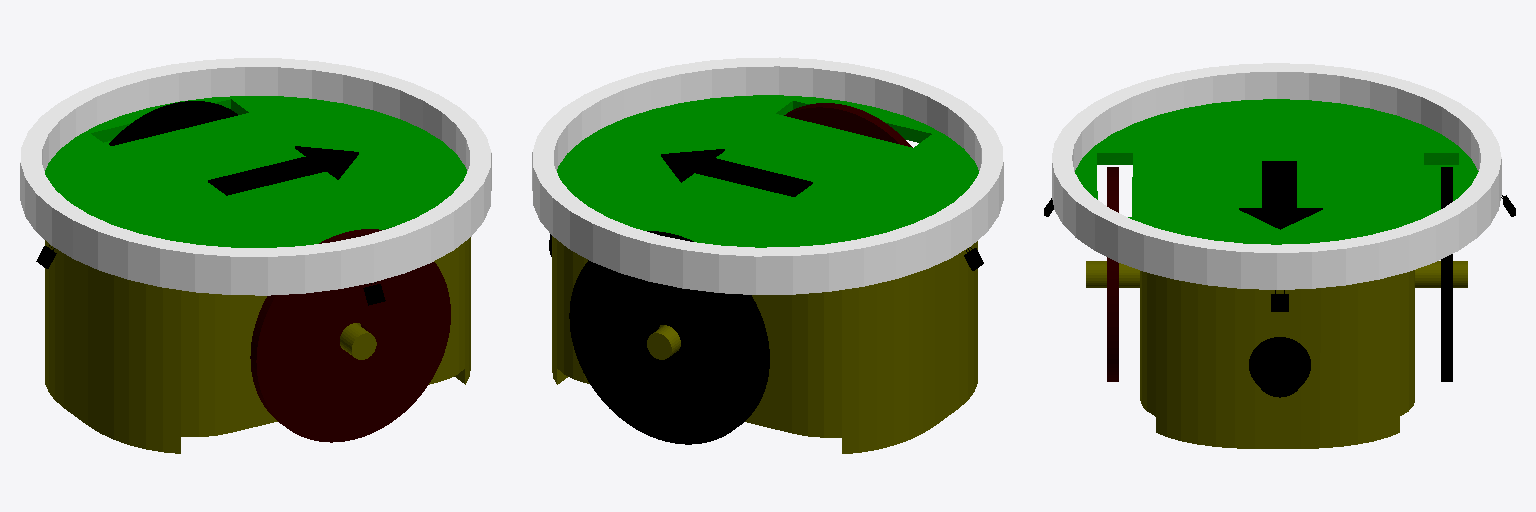
robot.urdf — epuck:
<robot name="epuck">
    <link name="base_link">
        <visual>
            <geometry>
                <mesh filename="epuck_body.obj" scale="0.5 0.5 0.5" />
            </geometry>
            <origin rpy="1.57075 0 0" xyz="0.0 -0.098 0.125" />
            <material name="light_grey">
                <color rgba="0.4 0.4 0 1" />
            </material>
        </visual>
        <collision>
            <geometry>
                <mesh filename="epuck_body.obj" scale="0.5 0.5 0.5" />
            </geometry>
             <origin rpy="1.57075 0 0" xyz="0.0 0.0 0.125" />
        </collision>
        <inertial>
            <mass value="1.5" />
            <inertia ixx="1.0" ixy="0.0" ixz="0.0" iyy="1.0" iyz="0.0" izz="1.0" />
        </inertial>
    </link>

     <link name="right_wheel">
        <visual>
            <geometry>
                <mesh filename="wheel.obj" scale="0.5 0.25 0.5" />
            </geometry>
            <origin xyz="0 0 0" />
            <material name="black">
                <color rgba="0.2 0.0 0.0 1" />
            </material>
        </visual>
        <collision>
            <geometry>
                <mesh filename="wheel.obj" scale="0.5 0.25 0.5" />
            </geometry>
            <origin xyz="0 0 0" />
        </collision>
        <inertial>
            <mass value="0.1" />
            <inertia ixx="1.0" ixy="0.0" ixz="0.0" iyy="1.0" iyz="0.0" izz="1.0" />
        </inertial>
    </link>

    <link name="left_wheel">
        <visual>
            <geometry>
                <mesh filename="wheel.obj" scale="0.5 0.25 0.5" />
            </geometry>
            <origin xyz="0 0 0" />
            <material name="black">
                <color rgba="0.0 0.0 0.0 1" />
            </material>
        </visual>
        <collision>
            <geometry>
               <mesh filename="wheel.obj" scale="0.5 0.25 0.5" />
            </geometry>
            <origin xyz="0 0 0" />
        </collision>
        <inertial>
            <mass value="0.1" />
            <inertia ixx="1.0" ixy="0.0" ixz="0.0" iyy="1.0" iyz="0.0" izz="1.0" />
        </inertial>
    </link>

    <joint name="base_to_right_wheel" type="continuous">
        <parent link="base_link" />
        <child link="right_wheel" />
      	<axis xyz="0 1 0" />
        <origin rpy="0 0 0" xyz="0.007 -0.12 0.078" />
    </joint>

    <joint name="base_to_left_wheel" type="continuous">
        <parent link="base_link" />
        <child link="left_wheel" />
       	<axis xyz="0 1 0" />
        <origin rpy="0 0 0" xyz="0.007 0.12 0.078" />
    </joint>
    <link name="top">
        <visual>
            <geometry>
                <mesh filename="epuck_top.obj" scale="0.5 0.5 0.5" />
            </geometry>
            <origin xyz="0 0 0" />
            <material name="green">
                <color rgba="0 0.6 0 1" />
            </material>
        </visual>
        <collision>
            <geometry>
               <mesh filename="epuck_top.obj" scale="0.5 0.5 0.5" />
            </geometry>
            <origin xyz="0 0 0" />
        </collision>
        <inertial>
            <mass value="0.5" />
            <inertia ixx="1.0" ixy="0.0" ixz="0.0" iyy="1.0" iyz="0.0" izz="1.0" />
        </inertial>
    </link>

    <joint name="base_to_top" type="fixed">
        <parent link="base_link" />
        <child link="top" />
        <origin rpy="1.57075 0 0" xyz="0 -0.098 0.12" />
    </joint>
    <link name="leds">
        <visual>
            <geometry>
                <mesh filename="led_base.obj" scale="0.5 0.5 0.5" />
            </geometry>
            <origin xyz="0 0 0" />
            <material name="white">
                <color rgba="1 1 1 0.7" />
            </material>
        </visual>
        <collision>
            <geometry>
               <mesh filename="led_base.obj" scale="0.5 0.5 0.5" />
            </geometry>
            <origin xyz="0 0 0" />
        </collision>
        <inertial>
            <mass value="0.01" />
            <inertia ixx="1.0" ixy="0.0" ixz="0.0" iyy="1.0" iyz="0.0" izz="1.0" />
        </inertial>
    </link>

    <joint name="base_to_leds" type="fixed">
        <parent link="base_link" />
        <child link="leds" />
        <origin rpy="1.57075 0 0" xyz="0 -0.098 0.12" />
    </joint>

    <link name="cam">
        <visual>
            <geometry>
                <mesh filename="cam.obj" scale="0.5 0.5 0.5" />
            </geometry>
            <origin xyz="0 0 0" />
            <material name="black">
                <color rgba="0 0 0 1" />
            </material>
        </visual>
        <collision>
            <geometry>
               <mesh filename="cam.obj" scale="0.5 0.5 0.5" />
            </geometry>
            <origin xyz="0 0 0" />
        </collision>
        <inertial>
            <mass value="0.005" />
            <inertia ixx="1.0" ixy="0.0" ixz="0.0" iyy="1.0" iyz="0.0" izz="1.0" />
        </inertial>
    </link>

    <joint name="base_to_cam" type="fixed">
        <parent link="base_link" />
        <child link="cam" />
        <origin rpy="3.1415 1.57075 0" xyz="0.268 0.0 0.07" />
    </joint>
    
<link name="IR0">
                <visual>
                    <geometry>
                        <mesh filename="ir.obj" scale="1 1 1" />
                    </geometry>
                    <origin xyz="0 0 0" />
                    <material name="black">
                        <color rgba="0 0 0 1" />
                    </material>
                </visual>
                <collision>
                    <geometry>
                    <mesh filename="ir.obj" scale="1 1 1" />
                    </geometry>
                    <origin xyz="0 0 0" />
                </collision>
                <inertial>
                    <mass value="0.0" />
                    <inertia ixx="1.0" ixy="0.0" ixz="0.0" iyy="1.0" iyz="0.0" izz="1.0" />
                </inertial>
            </link><joint name="base_to_IR0" type="fixed">
                <parent link="base_link" />
                <child link="IR0" />
                <origin rpy="1.2 0 1.5707963267948966" xyz="0.16 0.0 0.127" />
            </joint><link name="IR1">
                <visual>
                    <geometry>
                        <mesh filename="ir.obj" scale="1 1 1" />
                    </geometry>
                    <origin xyz="0 0 0" />
                    <material name="black">
                        <color rgba="0 0 0 1" />
                    </material>
                </visual>
                <collision>
                    <geometry>
                    <mesh filename="ir.obj" scale="1 1 1" />
                    </geometry>
                    <origin xyz="0 0 0" />
                </collision>
                <inertial>
                    <mass value="0.0" />
                    <inertia ixx="1.0" ixy="0.0" ixz="0.0" iyy="1.0" iyz="0.0" izz="1.0" />
                </inertial>
            </link><joint name="base_to_IR1" type="fixed">
                <parent link="base_link" />
                <child link="IR1" />
                <origin rpy="1.2 0 3.141592653589793" xyz="9.797174393178826e-18 0.16 0.127" />
            </joint><link name="IR2">
                <visual>
                    <geometry>
                        <mesh filename="ir.obj" scale="1 1 1" />
                    </geometry>
                    <origin xyz="0 0 0" />
                    <material name="black">
                        <color rgba="0 0 0 1" />
                    </material>
                </visual>
                <collision>
                    <geometry>
                    <mesh filename="ir.obj" scale="1 1 1" />
                    </geometry>
                    <origin xyz="0 0 0" />
                </collision>
                <inertial>
                    <mass value="0.0" />
                    <inertia ixx="1.0" ixy="0.0" ixz="0.0" iyy="1.0" iyz="0.0" izz="1.0" />
                </inertial>
            </link><joint name="base_to_IR2" type="fixed">
                <parent link="base_link" />
                <child link="IR2" />
                <origin rpy="1.2 0 4.71238898038469" xyz="-0.16 1.959434878635765e-17 0.127" />
            </joint><link name="IR3">
                <visual>
                    <geometry>
                        <mesh filename="ir.obj" scale="1 1 1" />
                    </geometry>
                    <origin xyz="0 0 0" />
                    <material name="black">
                        <color rgba="0 0 0 1" />
                    </material>
                </visual>
                <collision>
                    <geometry>
                    <mesh filename="ir.obj" scale="1 1 1" />
                    </geometry>
                    <origin xyz="0 0 0" />
                </collision>
                <inertial>
                    <mass value="0.0" />
                    <inertia ixx="1.0" ixy="0.0" ixz="0.0" iyy="1.0" iyz="0.0" izz="1.0" />
                </inertial>
            </link><joint name="base_to_IR3" type="fixed">
                <parent link="base_link" />
                <child link="IR3" />
                <origin rpy="1.2 0 6.283185307179586" xyz="-2.9391523179536474e-17 -0.16 0.127" />
            </joint>
    <!-- <link name="IR0">
        <visual>
            <geometry>
                <mesh filename="ir.obj" scale="1 1 1" />
            </geometry>
            <origin xyz="0 0 0" />
            <material name="black">
                <color rgba="0 0 0 1" />
            </material>
        </visual>
        <collision>
            <geometry>
            <mesh filename="ir.obj" scale="1 1 1" />
            </geometry>
            <origin xyz="0 0 0" />
        </collision>
        <inertial>
            <mass value="0.0" />
            <inertia ixx="1.0" ixy="0.0" ixz="0.0" iyy="1.0" iyz="0.0" izz="1.0" />
        </inertial>
    </link>
    <joint name="base_to_IR0" type="fixed">
        <parent link="base_link" />
        <child link="IR0" />
        <origin rpy="1.2 0 1.5707963267948966" xyz="0.16 0.0 0.127" />
    </joint>
    <link name="IR1">
        <visual>
            <geometry>
                <mesh filename="ir.obj" scale="1 1 1" />
            </geometry>
            <origin xyz="0 0 0" />
            <material name="black">
                <color rgba="0 0 0 1" />
            </material>
        </visual>
        <collision>
            <geometry>
            <mesh filename="ir.obj" scale="1 1 1" />
            </geometry>
            <origin xyz="0 0 0" />
        </collision>
        <inertial>
            <mass value="0.0" />
            <inertia ixx="1.0" ixy="0.0" ixz="0.0" iyy="1.0" iyz="0.0" izz="1.0" />
        </inertial>
    </link>
    <joint name="base_to_IR1" type="fixed">
        <parent link="base_link" />
        <child link="IR1" />
        <origin rpy="1.2 0 2.617993877991494" xyz="0.08000000000000002 0.13856406460551018 0.127" />
    </joint>
    <link name="IR2">
        <visual>
            <geometry>
                <mesh filename="ir.obj" scale="1 1 1" />
            </geometry>
            <origin xyz="0 0 0" />
            <material name="black">
                <color rgba="0 0 0 1" />
            </material>
        </visual>
        <collision>
            <geometry>
            <mesh filename="ir.obj" scale="1 1 1" />
            </geometry>
            <origin xyz="0 0 0" />
        </collision>
        <inertial>
            <mass value="0.0" />
            <inertia ixx="1.0" ixy="0.0" ixz="0.0" iyy="1.0" iyz="0.0" izz="1.0" />
        </inertial>
    </link>
    <joint name="base_to_IR2" type="fixed">
        <parent link="base_link" />
        <child link="IR2" />
        <origin rpy="1.2 0 3.665191429188092" xyz="-0.07999999999999996 0.13856406460551018 0.127" />
    </joint>
    <link name="IR3">
        <visual>
            <geometry>
                <mesh filename="ir.obj" scale="1 1 1" />
            </geometry>
            <origin xyz="0 0 0" />
            <material name="black">
                <color rgba="0 0 0 1" />
            </material>
        </visual>
        <collision>
            <geometry>
            <mesh filename="ir.obj" scale="1 1 1" />
            </geometry>
            <origin xyz="0 0 0" />
        </collision>
        <inertial>
            <mass value="0.0" />
            <inertia ixx="1.0" ixy="0.0" ixz="0.0" iyy="1.0" iyz="0.0" izz="1.0" />
        </inertial>
    </link>
    <joint name="base_to_IR3" type="fixed">
        <parent link="base_link" />
        <child link="IR3" />
        <origin rpy="1.2 0 4.71238898038469" xyz="-0.16 1.959434878635765e-17 0.127" />
    </joint>
    <link name="IR4">
        <visual>
            <geometry>
                <mesh filename="ir.obj" scale="1 1 1" />
            </geometry>
            <origin xyz="0 0 0" />
            <material name="black">
                <color rgba="0 0 0 1" />
            </material>
        </visual>
        <collision>
            <geometry>
            <mesh filename="ir.obj" scale="1 1 1" />
            </geometry>
            <origin xyz="0 0 0" />
        </collision>
        <inertial>
            <mass value="0.0" />
            <inertia ixx="1.0" ixy="0.0" ixz="0.0" iyy="1.0" iyz="0.0" izz="1.0" />
        </inertial>
    </link>
    <joint name="base_to_IR4" type="fixed">
        <parent link="base_link" />
        <child link="IR4" />
        <origin rpy="1.2 0 5.759586531581287" xyz="-0.08000000000000007 -0.13856406460551016 0.127" />
    </joint><link name="IR5">
        <visual>
            <geometry>
                <mesh filename="ir.obj" scale="1 1 1" />
            </geometry>
            <origin xyz="0 0 0" />
            <material name="black">
                <color rgba="0 0 0 1" />
            </material>
        </visual>
        <collision>
            <geometry>
            <mesh filename="ir.obj" scale="1 1 1" />
            </geometry>
            <origin xyz="0 0 0" />
        </collision>
        <inertial>
            <mass value="0.0" />
            <inertia ixx="1.0" ixy="0.0" ixz="0.0" iyy="1.0" iyz="0.0" izz="1.0" />
        </inertial>
    </link>
    <joint name="base_to_IR5" type="fixed">
        <parent link="base_link" />
        <child link="IR5" />
        <origin rpy="1.2 0 6.8067840827778845" xyz="0.07999999999999989 -0.13856406460551024 0.127" />
    </joint> -->

    
    <link name="arrow">
        <visual>
            <geometry>
                <mesh filename="arrow.obj" scale="0.1 0.1 0.1"/>
            </geometry>
            <origin xyz="0 0 0" rpy="1.57 0 -1.57"/>
            <material name="black">
                <color rgba="0 0 0 1"/>
            </material>
        </visual>
        <collision>
            <geometry>
               <mesh filename="arrow.obj" scale="0.1 0.1 0.1"/>
            </geometry>
            <origin xyz="0 0 0" rpy="1.57 0 -1.57"/>
        </collision>
        <inertial>
            <mass value="0"/>
            <inertia ixx="0.0" ixy="0.0" ixz="0.0" iyy="0.0" iyz="0.0" izz="0.0"/>
        </inertial>
    </link>
    <joint name="base_to_arrow" type="fixed">
        <parent link="base_link"/>
        <child link="arrow"/>
        <origin xyz="0 0.0 0.15" rpy="0 0 0"/>
    </joint>

</robot>

--- Facts derived from the render (not from the file) ---
Views: 3 orthographic renders of the robot side by side, from view 1: azimuth 30°, elevation 25°; view 2: azimuth 150°, elevation 25°; view 3: azimuth 270°, elevation 25°.
Robot: epuck — 11 links, 10 joints (2 continuous, 8 fixed); root link base_link; default pose: all joints at 0.
Visible links, largest first — view 1: leds, top, base_link, right_wheel, arrow, left_wheel; view 2: leds, top, base_link, left_wheel, arrow, right_wheel; view 3: base_link, top, leds, cam, arrow, right_wheel, left_wheel.
Boxes of the visible links, x1,y1,x2,y2 form: leds: (20,58,491,295); top: (45,96,466,247); base_link: (45,237,470,453); right_wheel: (250,229,450,442); arrow: (208,146,358,195); left_wheel: (109,101,237,145); leds: (532,57,1003,294); top: (557,95,978,247); base_link: (552,236,977,453); left_wheel: (569,231,769,444); arrow: (661,149,812,196); right_wheel: (784,103,912,147); base_link: (1086,261,1467,448); top: (1075,99,1478,244); leds: (1052,63,1501,289); cam: (1249,337,1310,397); arrow: (1239,161,1322,229); right_wheel: (1107,167,1118,381); left_wheel: (1441,167,1452,381).
Size in the robot's own frame: 0.3384 by 0.3384 by 0.1661 metres.
Meshes: 7 distinct files referenced, 11 mesh visuals loaded (7 OBJ).